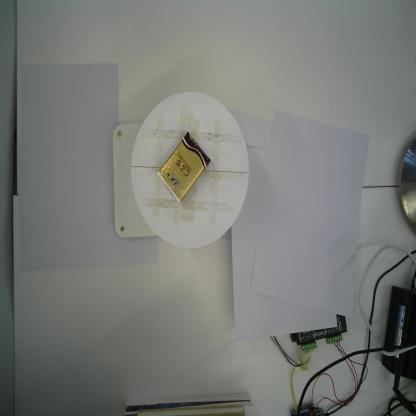Tissue: (157, 132, 211, 202)
